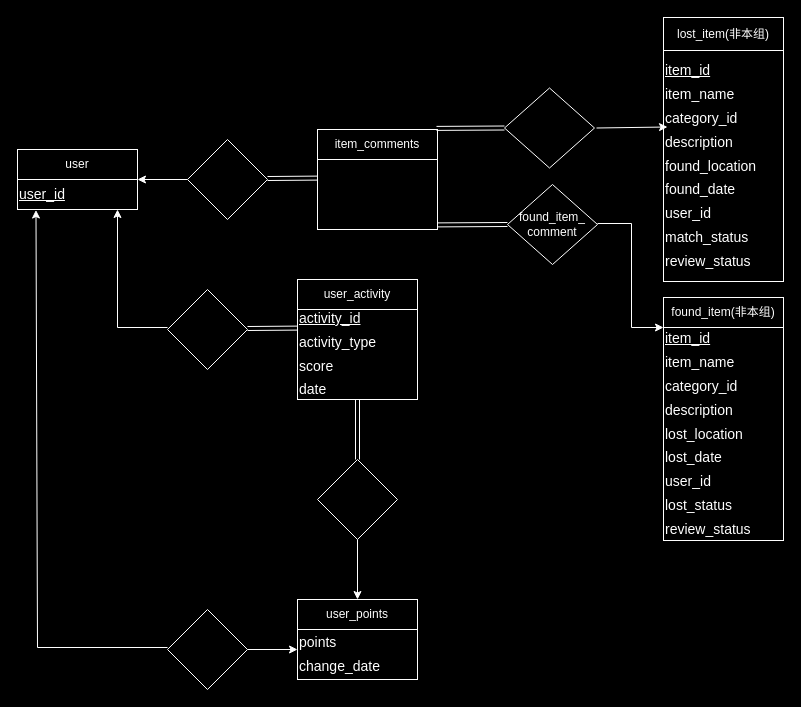
This 801x707 diagram has some shape labels left out. Each missing label, with the centre of its shape:
action: (207,329)
comment_id date content: (377,194)
lost_item_ comment: (549,127)
make: (227,179)
score: (207,649)
sum: (357,499)
